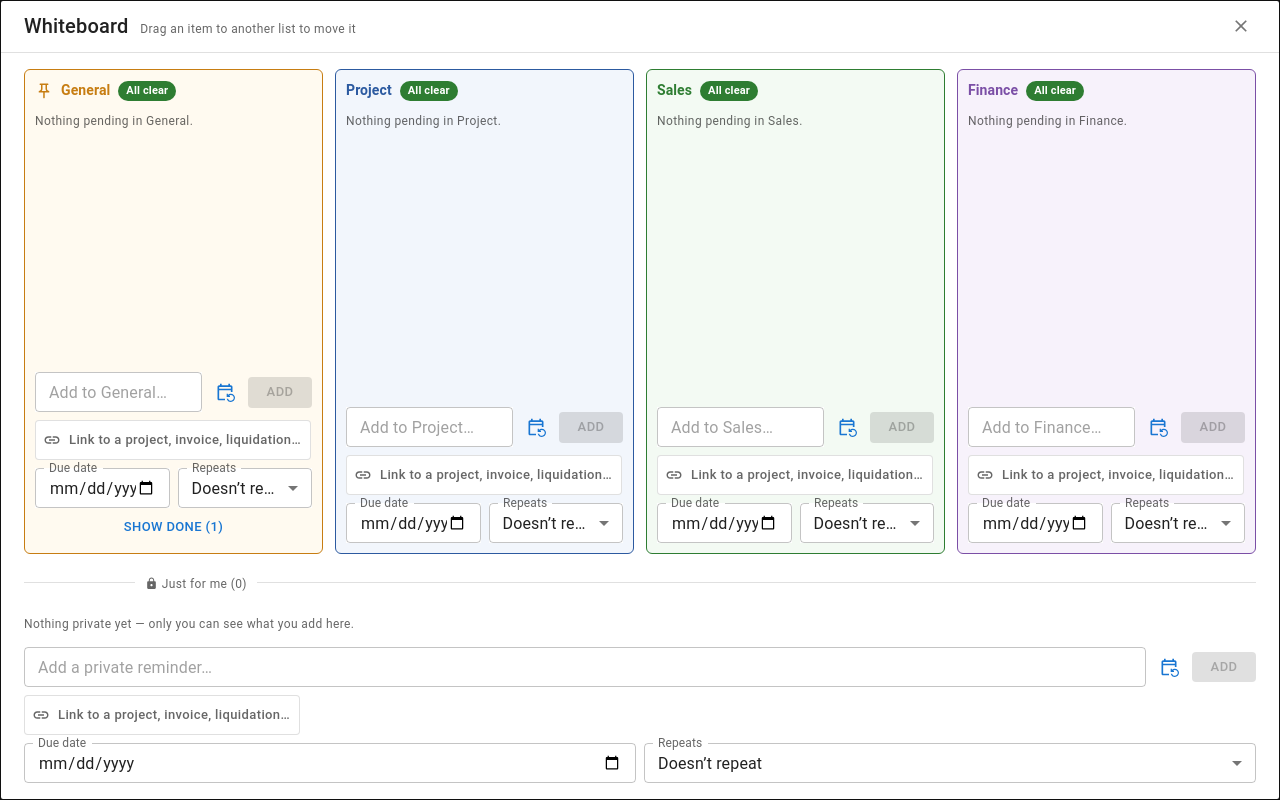
it: due dates, done-by and repeats › shows who completed an item and when, under "Show done"
Step 1. Click the button "Show done (1)" → [174, 528], box x1=35 y1=512 x2=312 y2=543
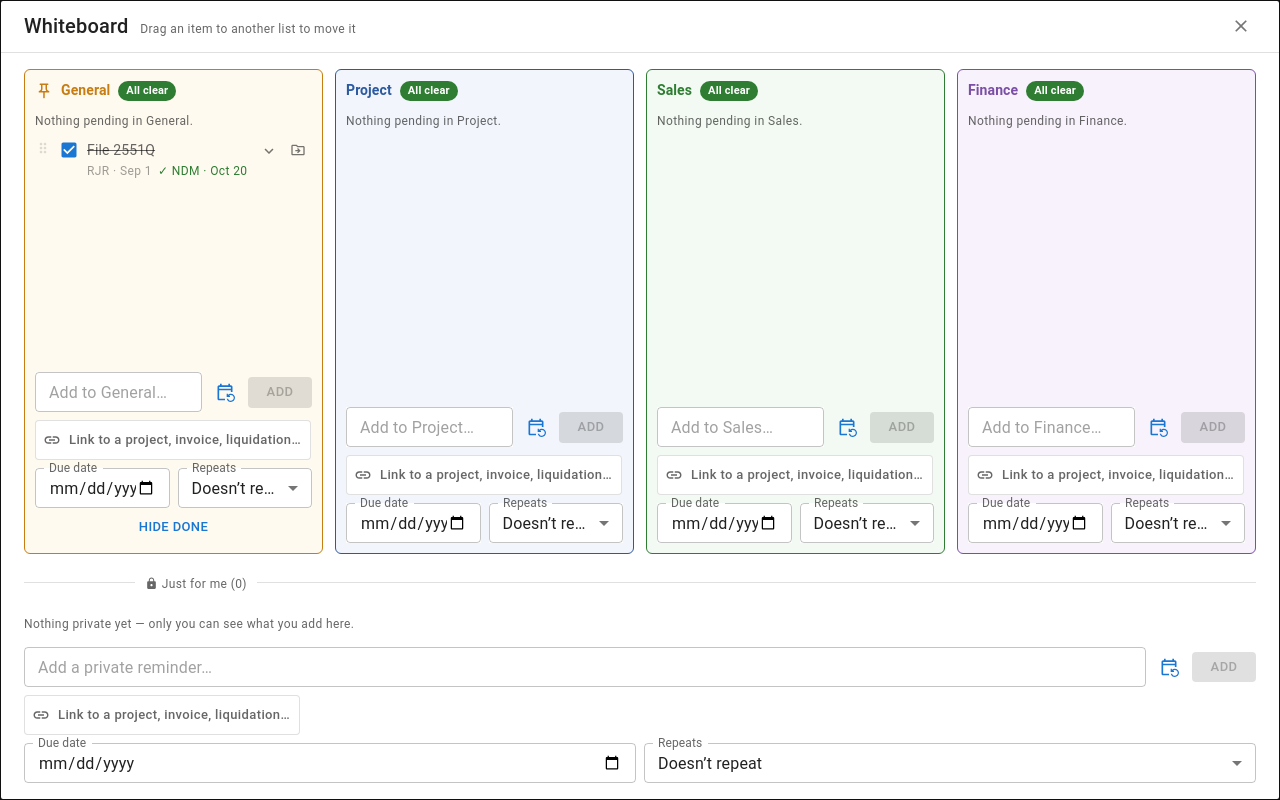
Result: the text with test id "wb-done-by" reads "✓ NDM · Oct 20" at x1=158 y1=162 x2=248 y2=182
